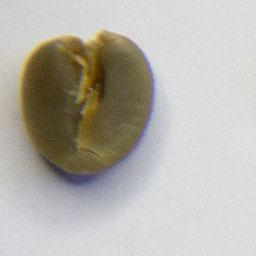premium: (15, 26, 157, 179)
